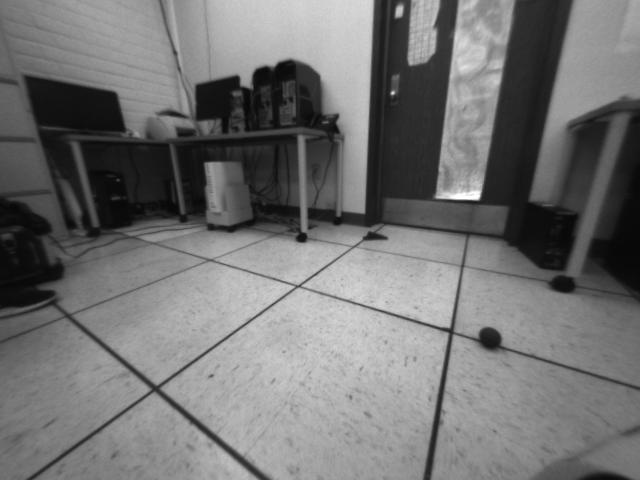dogtoy: (474, 317, 509, 356)
